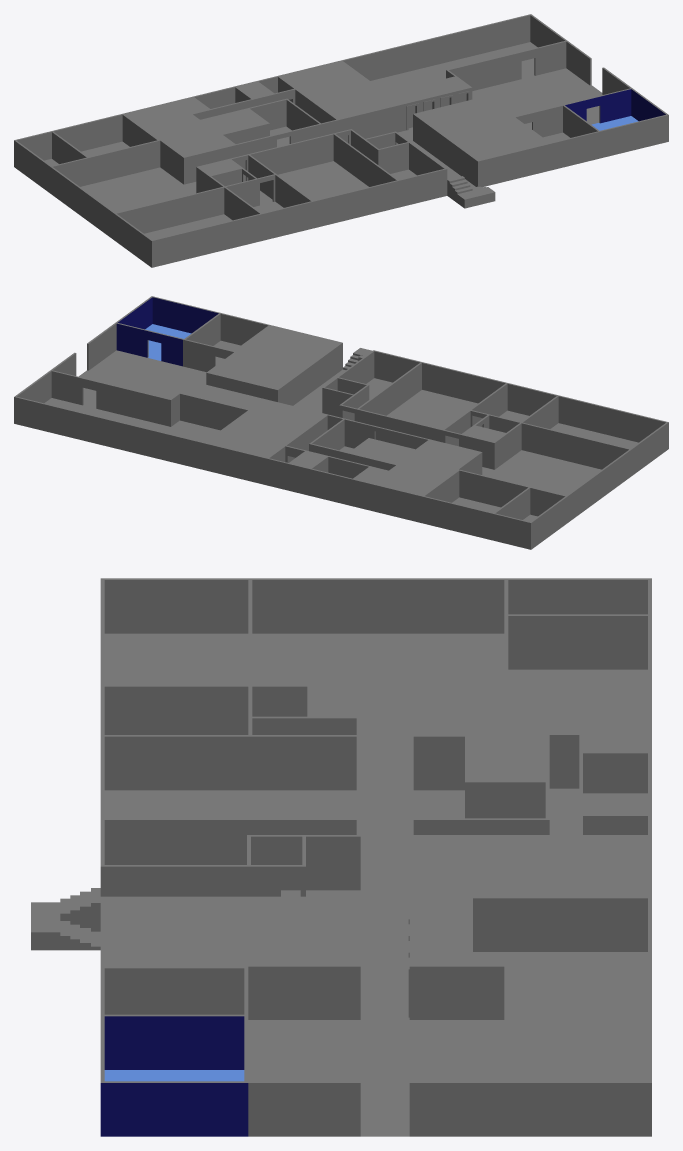
File: reception.gltf
3 views of the same model, one above another, from view 1: azimuth 30°, elevation 25°; view 2: azimuth 150°, elevation 25°; view 3: azimuth 270°, elevation 25° (orthographic). The views are drawn at different scales.
Visible parts, largest first — view 1: root; view 2: root; view 3: root.
Part boxes in pixels (left/top/right/bottom): root: left=14, top=14, right=668, bottom=267; root: left=14, top=296, right=668, bottom=549; root: left=31, top=578, right=651, bottom=1136.
Bounding box in the file's own units: 60.63 × 3 × 31.54.
